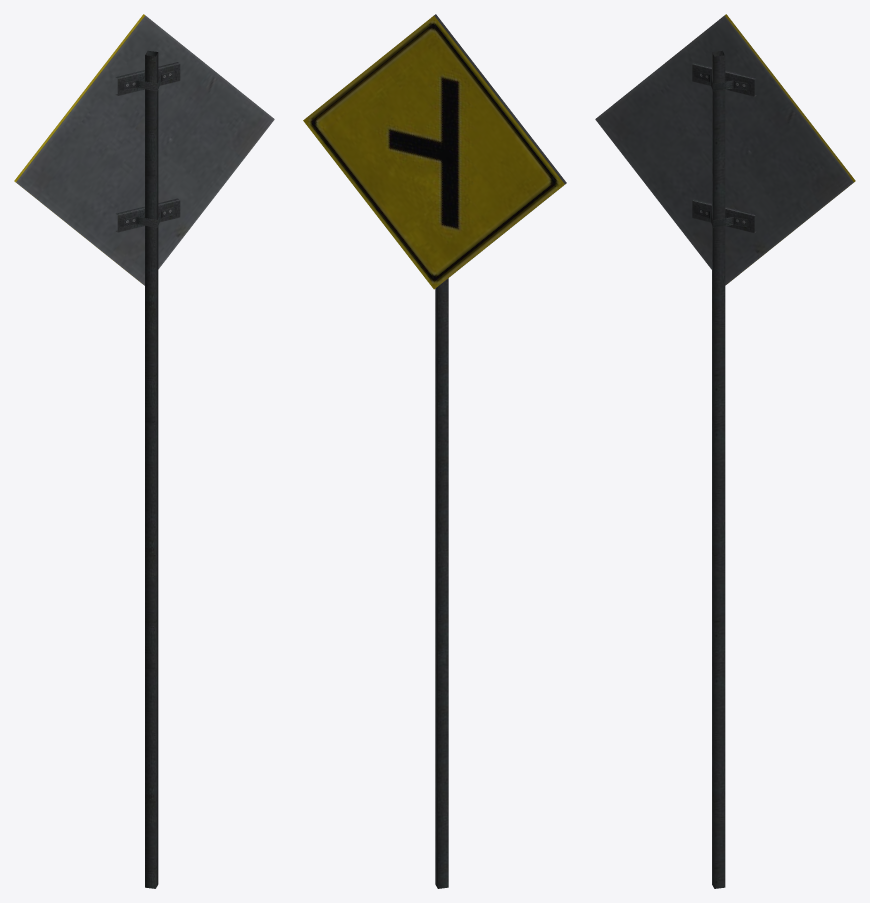
Rendered from Left_T-junction.glb.
3 renders of one model, left to right at view 1: azimuth 30°, elevation 25°; view 2: azimuth 150°, elevation 25°; view 3: azimuth 330°, elevation 25°, orthographic.
Visible parts, largest first — view 1: Left_T_Junction__LOD1; view 2: Left_T_Junction__LOD1; view 3: Left_T_Junction__LOD1.
Boxes of the visible parts, x1=… form: Left_T_Junction__LOD1: x1=14, y1=14, x2=274, y2=888; Left_T_Junction__LOD1: x1=303, y1=14, x2=566, y2=888; Left_T_Junction__LOD1: x1=595, y1=14, x2=855, y2=888.
Size of the model in its own units: 0.9743 by 3.11 by 0.0893.
1 material, 1 textured.
